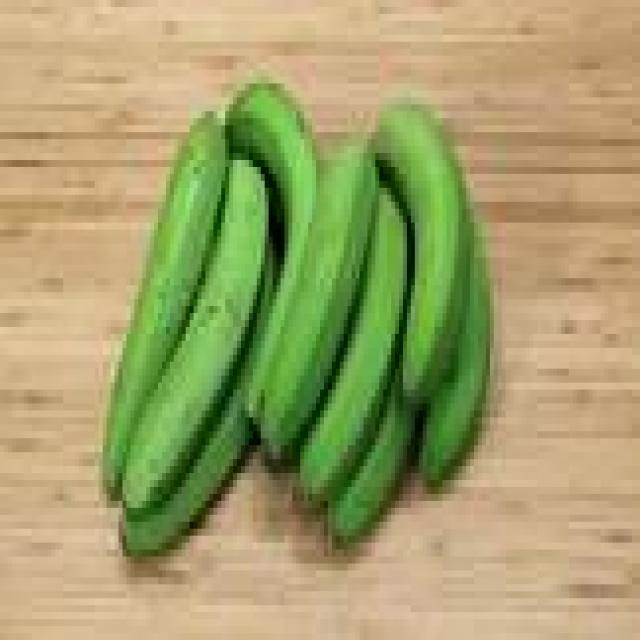banana: (123, 160, 268, 514), (103, 112, 229, 493), (123, 258, 276, 556), (261, 140, 379, 459), (301, 188, 406, 500), (226, 84, 316, 424), (376, 105, 470, 410), (419, 230, 493, 486), (328, 376, 414, 542)
